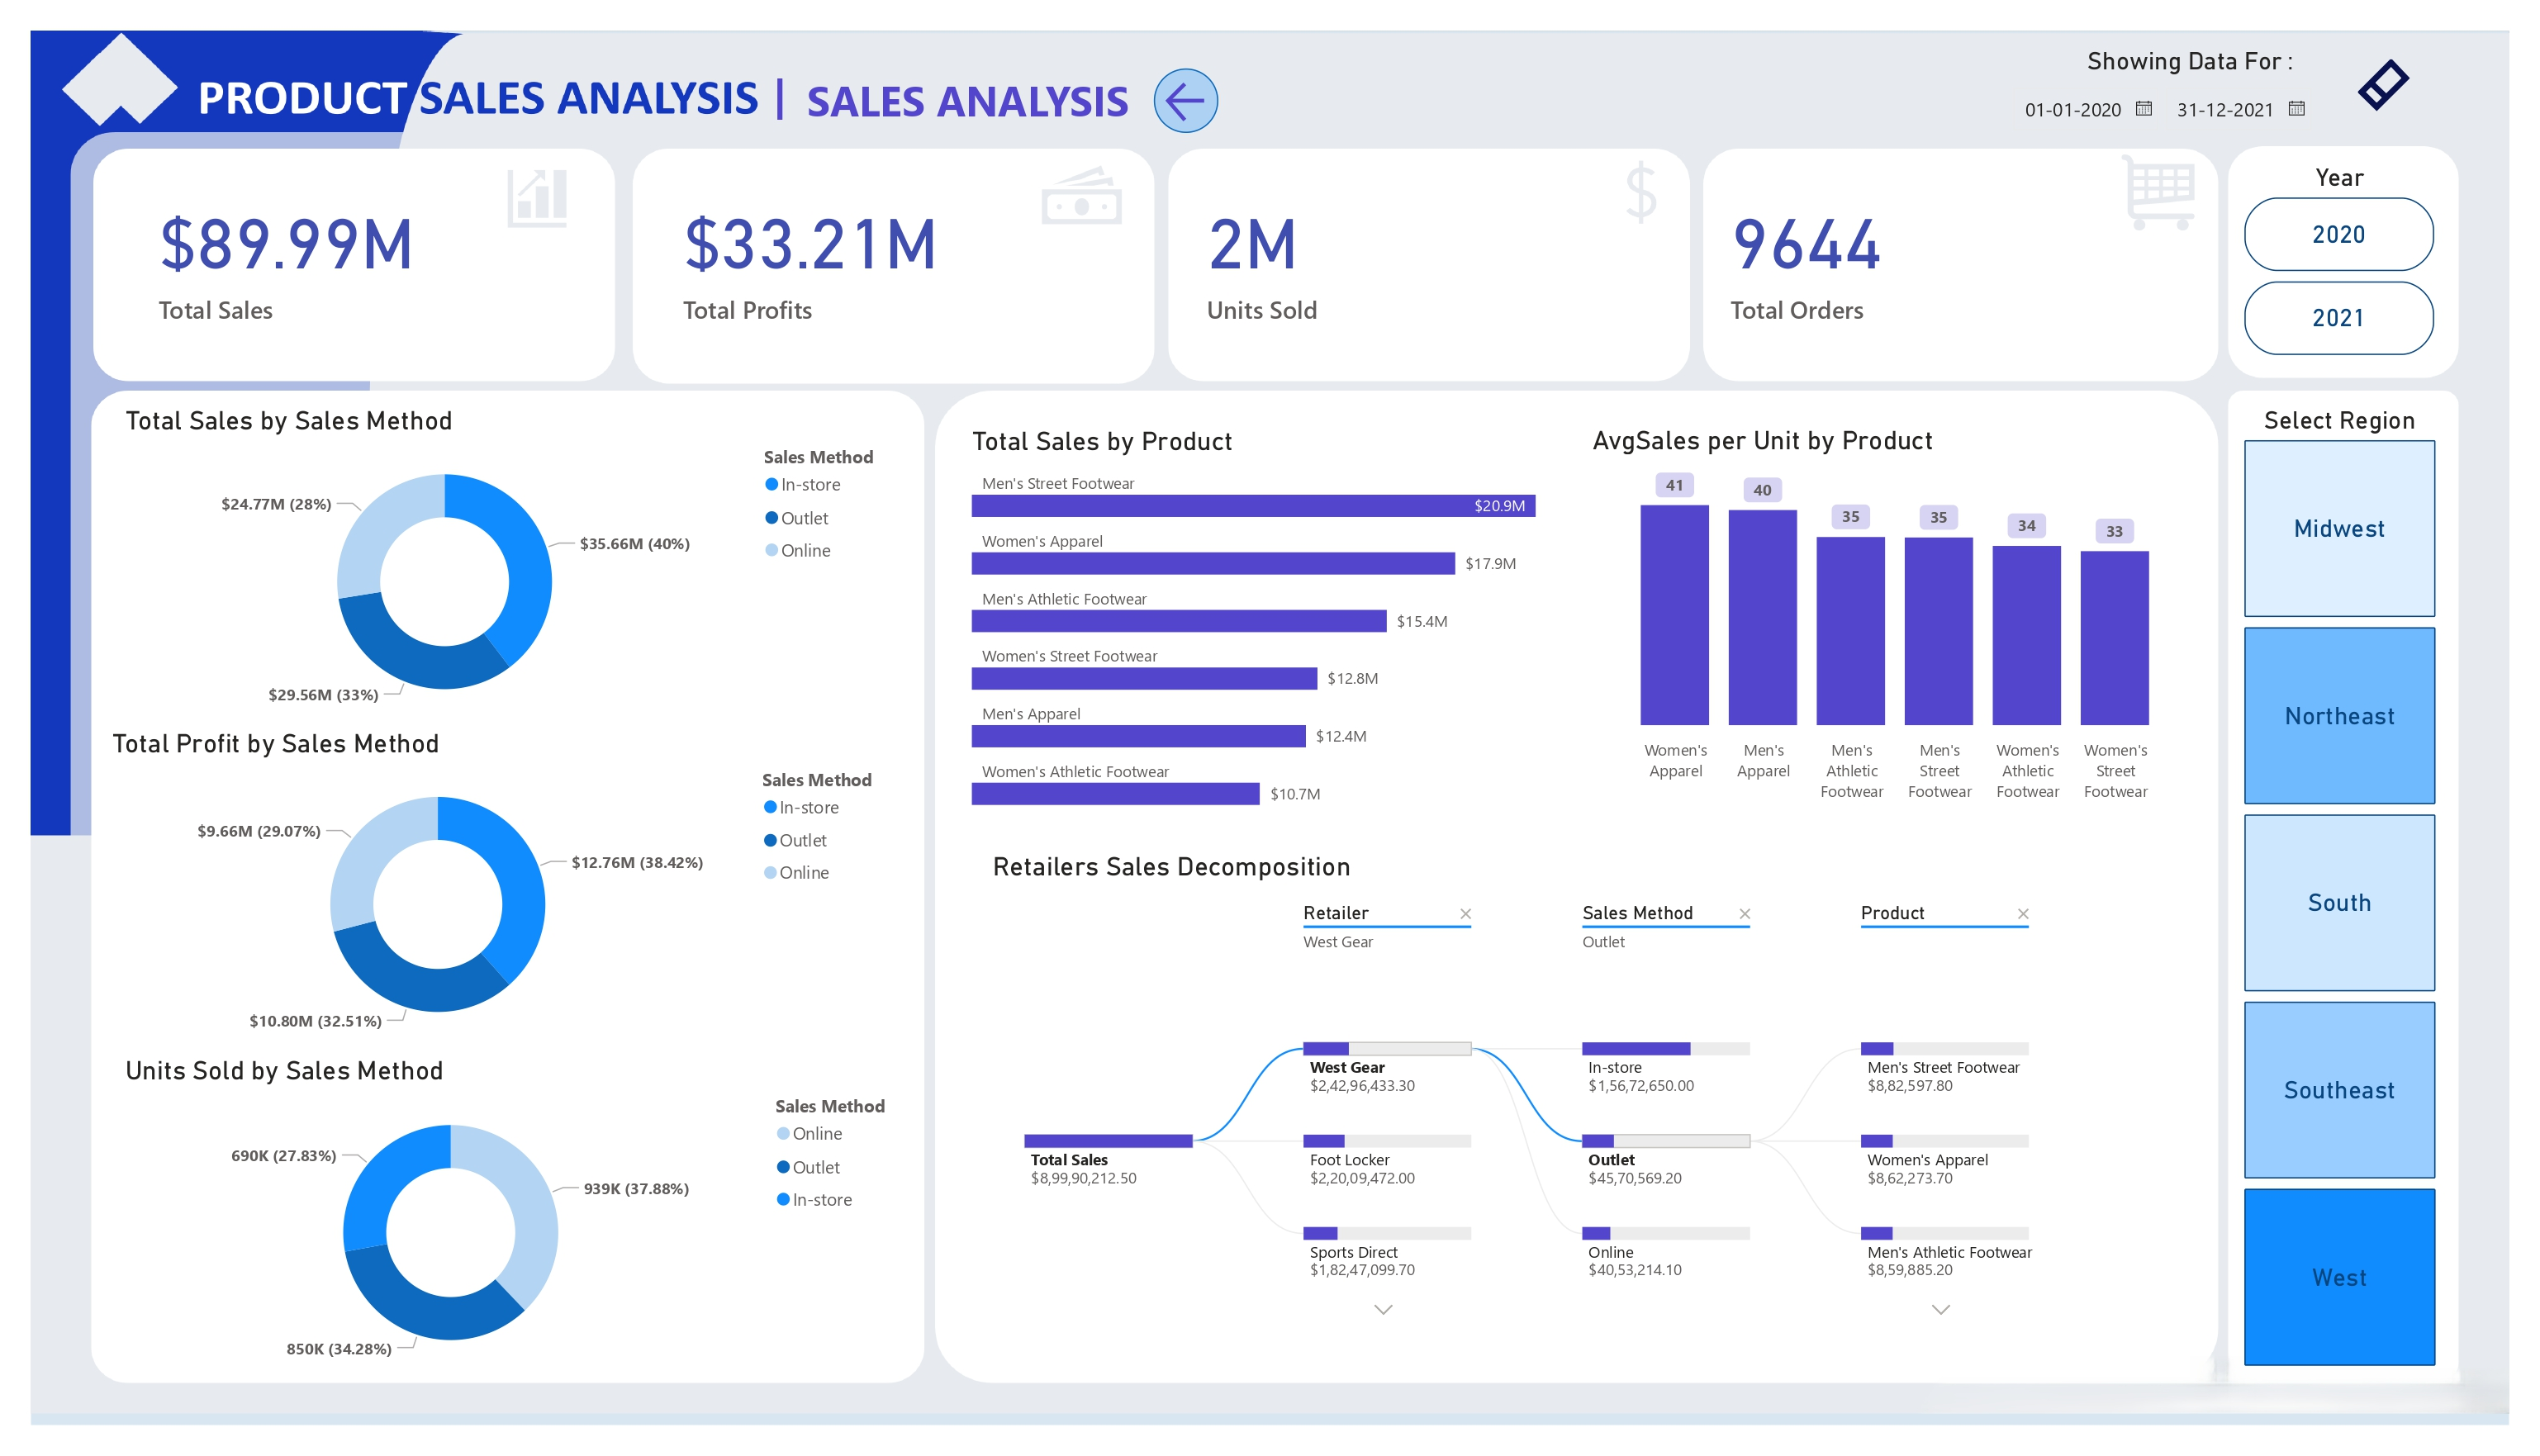

The dashboard page shown, as its layout file describes it:
{"tool":"powerbi","page":{"name":"Sales Analysis","canvas":[1920,1080],"ordinal":1},"visuals":[{"type":"cardVisual","fields":{"Data":["_Measures.Total Sales","_Measures.Total Profits","_Measures.Units Sold","_Measures.Total Orders"]},"box":[82.3,96.7,1628.1,168.8],"z":0},{"type":"advancedSlicerVisual","title":"Select Region","fields":{"Values":["dim_Region.Region"]},"box":[1710,290,158,752],"z":4000},{"type":"advancedSlicerVisual","fields":{"Values":["dim_Calendar.Year"]},"box":[1710,102.2,157.8,157.8],"z":5000},{"type":"actionButton","box":[1798.9,12.2,47.8,58.9],"z":6000},{"type":"slicer","title":"Showing Data For :","fields":{"Values":["dim_Calendar.Date"]},"box":[1523.3,11.7,300,76.7],"z":7000},{"type":"donutChart","title":"Total Sales by Sales Method","fields":{"Y":["_Measures.Total Sales"],"Category":["dim_Sales_Channel.Sales Method"]},"box":[68,290,608,250],"z":8000},{"type":"donutChart","title":"Total Profit by Sales Method","fields":{"Y":["_Measures.Total Profits"],"Category":["dim_Sales_Channel.Sales Method"]},"box":[57.5,540,617.5,250],"z":9000},{"type":"donutChart","title":"Units Sold by Sales Method","fields":{"Y":["_Measures.Units Sold"],"Category":["dim_Sales_Channel.Sales Method"]},"box":[67.5,792.5,617.5,250],"z":10000},{"type":"clusteredBarChart","title":"Total Sales by Product","fields":{"Y":["_Measures.label","_Measures.Total Sales"],"Category":["dim_Product.Product"]},"box":[724,306,482,300],"z":11000},{"type":"clusteredColumnChart","fields":{"Y":["_Measures.AvgSales per Unit"],"Category":["dim_Product.Product"]},"box":[1205,305,470,300],"z":12000},{"type":"decompositionTreeVisual","title":"Retailers Sales Decomposition","fields":{"Analyze":["_Measures.Total Sales"],"ExplainBy":["dim_Retailer.Retailer","dim_Sales_Channel.Sales Method","dim_Product.Product"]},"box":[740,635,932.5,407.5],"z":13000},{"type":"textbox","box":[584,20,204,52],"z":14000},{"type":"textbox","box":[570,21.4,50,57.1],"z":15000},{"type":"textbox","box":[596,26,344,90],"z":16000},{"type":"shape","box":[870,29.3,50,50],"z":17000},{"type":"actionButton","box":[875.4,34.6,40.8,40],"z":18000}]}

Visuals, with their boxes on the page's 1920x1080 design canvas (x1, y1, x2, y2). These are canvas units, not pixel positions in the 2540x1456 screenshot, which may show the page scaled, cropped or inside an application window:
cardVisual - _Measures.Total Sales x _Measures.Total Profits: <bbox>82, 97, 1710, 266</bbox>
"Select Region" advancedSlicerVisual: <bbox>1710, 290, 1868, 1042</bbox>
advancedSlicerVisual - dim_Calendar.Year: <bbox>1710, 102, 1868, 260</bbox>
actionButton: <bbox>1799, 12, 1847, 71</bbox>
"Showing Data For :" slicer: <bbox>1523, 12, 1823, 88</bbox>
"Total Sales by Sales Method" donutChart: <bbox>68, 290, 676, 540</bbox>
"Total Profit by Sales Method" donutChart: <bbox>58, 540, 675, 790</bbox>
"Units Sold by Sales Method" donutChart: <bbox>68, 792, 685, 1042</bbox>
"Total Sales by Product" clusteredBarChart: <bbox>724, 306, 1206, 606</bbox>
clusteredColumnChart - _Measures.AvgSales per Unit x dim_Product.Product: <bbox>1205, 305, 1675, 605</bbox>
"Retailers Sales Decomposition" decompositionTreeVisual: <bbox>740, 635, 1672, 1042</bbox>
textbox: <bbox>584, 20, 788, 72</bbox>
textbox: <bbox>570, 21, 620, 78</bbox>
textbox: <bbox>596, 26, 940, 116</bbox>
shape: <bbox>870, 29, 920, 79</bbox>
actionButton: <bbox>875, 35, 916, 75</bbox>
